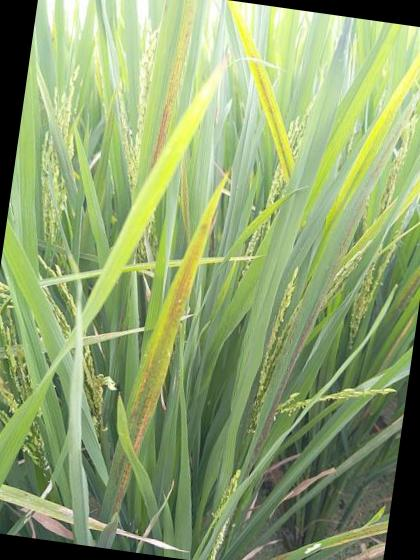Leaf Streak: (240, 101, 414, 485), (125, 172, 229, 455), (225, 0, 293, 186), (151, 0, 196, 162), (99, 440, 131, 525)
